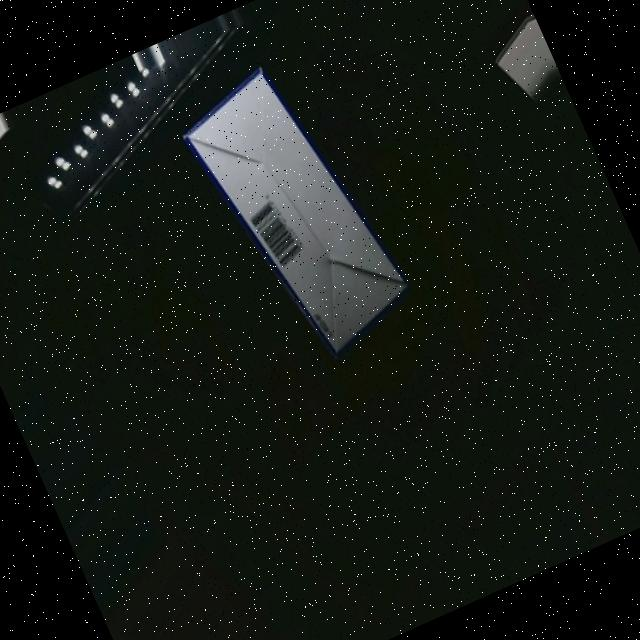prenolol: (175, 67, 419, 358)
